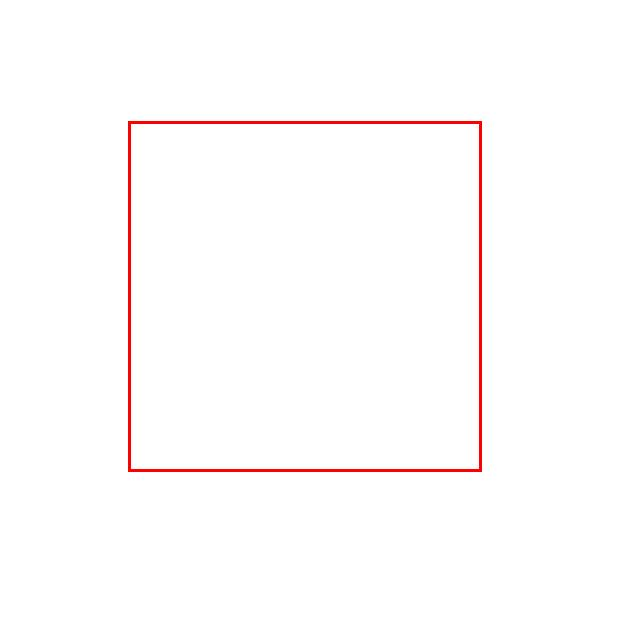Juice: (128, 121, 481, 471)
